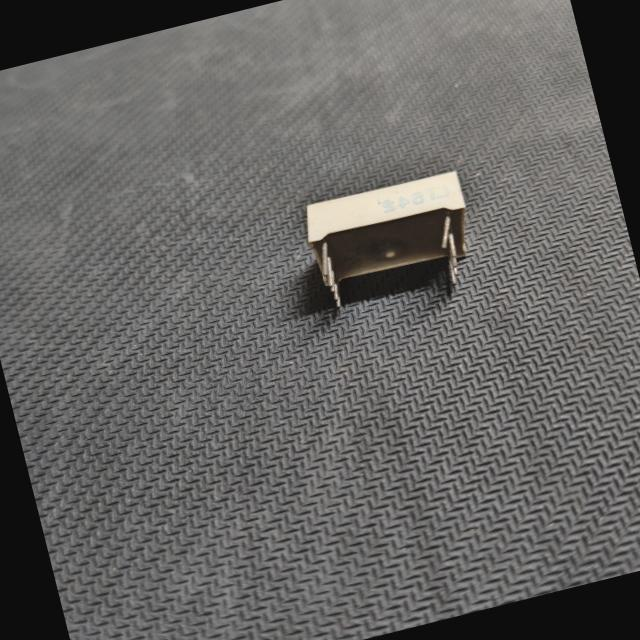sevensegment: (262, 152, 510, 336)
